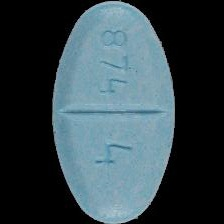0555-0874: (0, 0, 224, 224)
